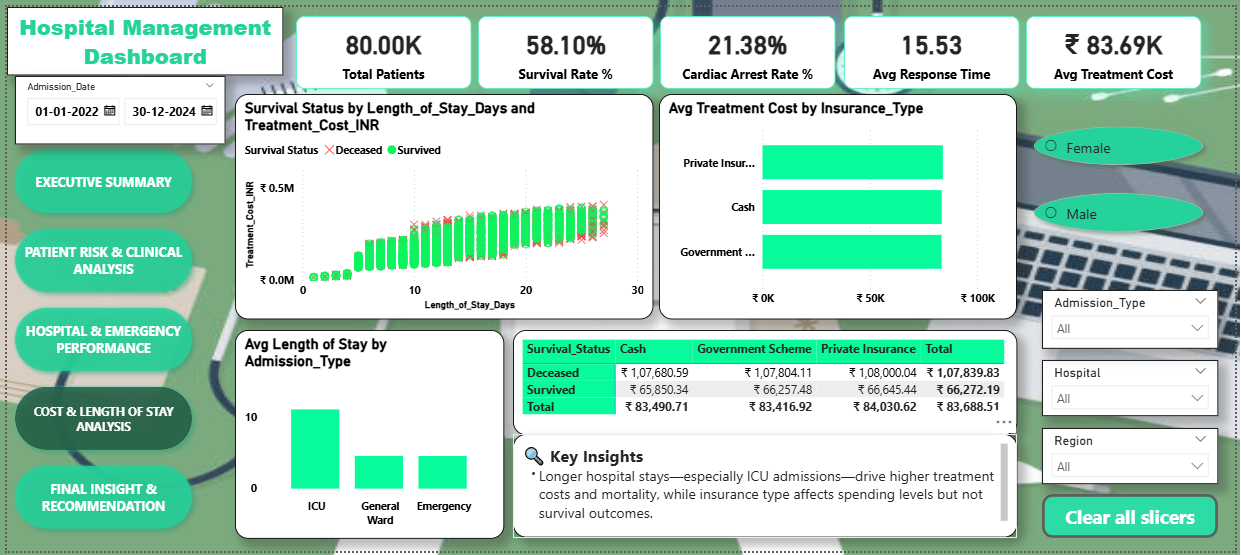

The dashboard page shown, as its layout file describes it:
{"tool":"powerbi","page":{"name":"COST & LENGTH OF STAY ANALYSIS","canvas":[1400,620],"ordinal":4},"visuals":[{"type":"pageNavigator","box":[0,153.9,220,451.5],"z":0},{"type":"textbox","box":[0,0,315,78.4],"z":1000},{"type":"card","fields":{"Values":["cardiac_arrest_prediction_data.Total Patients"]},"box":[329.5,10.3,199.5,83.2],"z":2000},{"type":"card","fields":{"Values":["cardiac_arrest_prediction_data.Survival Rate %"]},"box":[537,10.3,199.5,83.2],"z":3000},{"type":"card","fields":{"Values":["cardiac_arrest_prediction_data.Cardiac Arrest Rate %"]},"box":[744.5,10.3,199.5,83.2],"z":4000},{"type":"card","fields":{"Values":["cardiac_arrest_prediction_data.Avg Response Time"]},"box":[954.2,10.3,199.5,83.2],"z":5000},{"type":"card","fields":{"Values":["cardiac_arrest_prediction_data.Avg Treatment Cost"]},"box":[1161.7,10.3,199.5,83.2],"z":6000},{"type":"slicer","fields":{"Values":["cardiac_arrest_prediction_data.Hospital"]},"box":[1180.2,402.4,200.6,64.3],"z":7000},{"type":"slicer","fields":{"Values":["cardiac_arrest_prediction_data.Admission_Type"]},"box":[1180.2,322.7,200.6,66.9],"z":8000},{"type":"slicer","fields":{"Values":["cardiac_arrest_prediction_data.Admission_Date"]},"box":[9,78.4,240.4,78.4],"z":9000},{"type":"advancedSlicerVisual","fields":{"Values":["cardiac_arrest_prediction_data.Gender"]},"box":[1153.6,99.5,227.1,194.5],"z":10000},{"type":"slicer","fields":{"Values":["cardiac_arrest_prediction_data.Region"]},"box":[1180.2,479.5,200.6,64.3],"z":11000},{"type":"actionButton","box":[1180.2,555.4,200.6,50.1],"z":12000},{"type":"scatterChart","title":"Survival Status by Length_of_Stay_Days and Treatment_Cost_INR","fields":{"X":["cardiac_arrest_prediction_data.Length_of_Stay_Days"],"Y":["cardiac_arrest_prediction_data.Treatment_Cost_INR"],"Series":["cardiac_arrest_prediction_data.Survival_Status"]},"box":[259.8,99.5,476.6,256.8],"z":13000},{"type":"barChart","fields":{"Category":["cardiac_arrest_prediction_data.Insurance_Type"],"Y":["cardiac_arrest_prediction_data.Avg Treatment Cost"]},"box":[743.8,99.5,408.3,256.8],"z":14000},{"type":"columnChart","fields":{"Y":["cardiac_arrest_prediction_data.Avg Length of Stay"],"Category":["cardiac_arrest_prediction_data.Admission_Type"]},"box":[259.7,367.7,307.3,237.8],"z":15000},{"type":"pivotTable","fields":{"Columns":["cardiac_arrest_prediction_data.Insurance_Type"],"Values":["Avg(cardiac_arrest_prediction_data.Treatment_Cost_INR)"],"Rows":["cardiac_arrest_prediction_data.Survival_Status"]},"box":[577.2,367.7,574.7,119.6],"z":16000},{"type":"textbox","box":[577.2,487.2,574.7,118.3],"z":17000}]}

Visuals, with their boxes in screenshot pixels (x1, y1, x2, y2), scaled from the page's 1400x620 canvas onto the 1241x555 screenshot:
pageNavigator: [x1=0, y1=138, x2=195, y2=542]
textbox: [x1=0, y1=0, x2=279, y2=70]
card - cardiac_arrest_prediction_data.Total Patients: [x1=292, y1=9, x2=469, y2=84]
card - cardiac_arrest_prediction_data.Survival Rate %: [x1=476, y1=9, x2=653, y2=84]
card - cardiac_arrest_prediction_data.Cardiac Arrest Rate %: [x1=660, y1=9, x2=837, y2=84]
card - cardiac_arrest_prediction_data.Avg Response Time: [x1=846, y1=9, x2=1023, y2=84]
card - cardiac_arrest_prediction_data.Avg Treatment Cost: [x1=1030, y1=9, x2=1207, y2=84]
slicer - cardiac_arrest_prediction_data.Hospital: [x1=1046, y1=360, x2=1224, y2=418]
slicer - cardiac_arrest_prediction_data.Admission_Type: [x1=1046, y1=289, x2=1224, y2=349]
slicer - cardiac_arrest_prediction_data.Admission_Date: [x1=8, y1=70, x2=221, y2=140]
advancedSlicerVisual - cardiac_arrest_prediction_data.Gender: [x1=1023, y1=89, x2=1224, y2=263]
slicer - cardiac_arrest_prediction_data.Region: [x1=1046, y1=429, x2=1224, y2=487]
actionButton: [x1=1046, y1=497, x2=1224, y2=542]
"Survival Status by Length_of_Stay_Days and Treatment_Cost_INR" scatterChart: [x1=230, y1=89, x2=653, y2=319]
barChart - cardiac_arrest_prediction_data.Insurance_Type x cardiac_arrest_prediction_data.Avg Treatment Cost: [x1=659, y1=89, x2=1021, y2=319]
columnChart - cardiac_arrest_prediction_data.Avg Length of Stay x cardiac_arrest_prediction_data.Admission_Type: [x1=230, y1=329, x2=503, y2=542]
pivotTable - cardiac_arrest_prediction_data.Insurance_Type x Avg(cardiac_arrest_prediction_data.Treatment_Cost_INR): [x1=512, y1=329, x2=1021, y2=436]
textbox: [x1=512, y1=436, x2=1021, y2=542]
